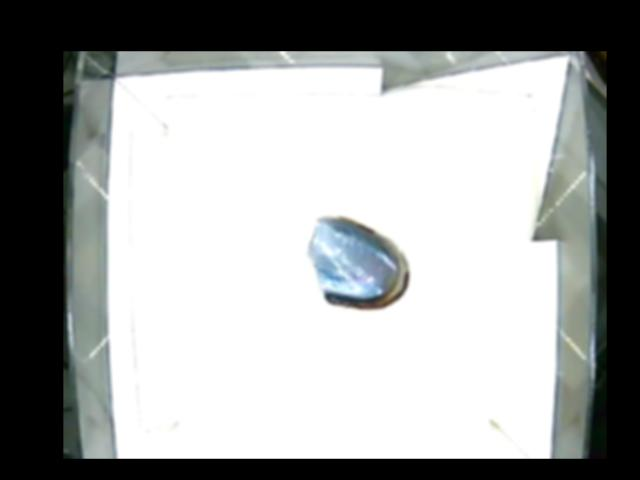Shell: (307, 214, 409, 309)
